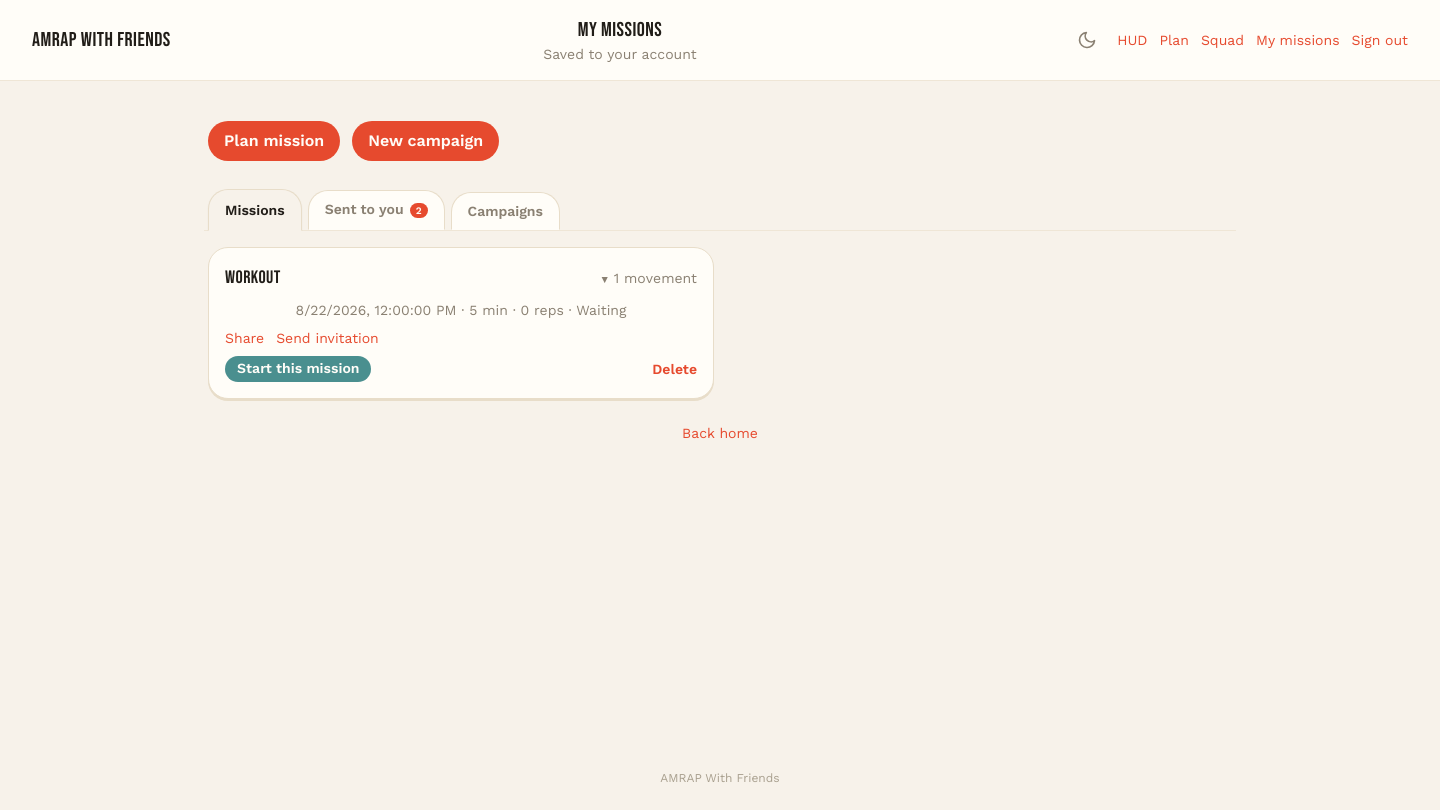
Test case: MyMissionsPage tabs › defaults to Missions and switches section panels
Check: the element named "My missions sections" is shown, box [204, 189, 1236, 231]
Check: the link "Start this mission" is shown, box [225, 356, 371, 382]
What coordinates should you click on to do the following:
click the tab "Campaigns"
I would click on:
 (505, 211)
Its box is [451, 192, 560, 230].
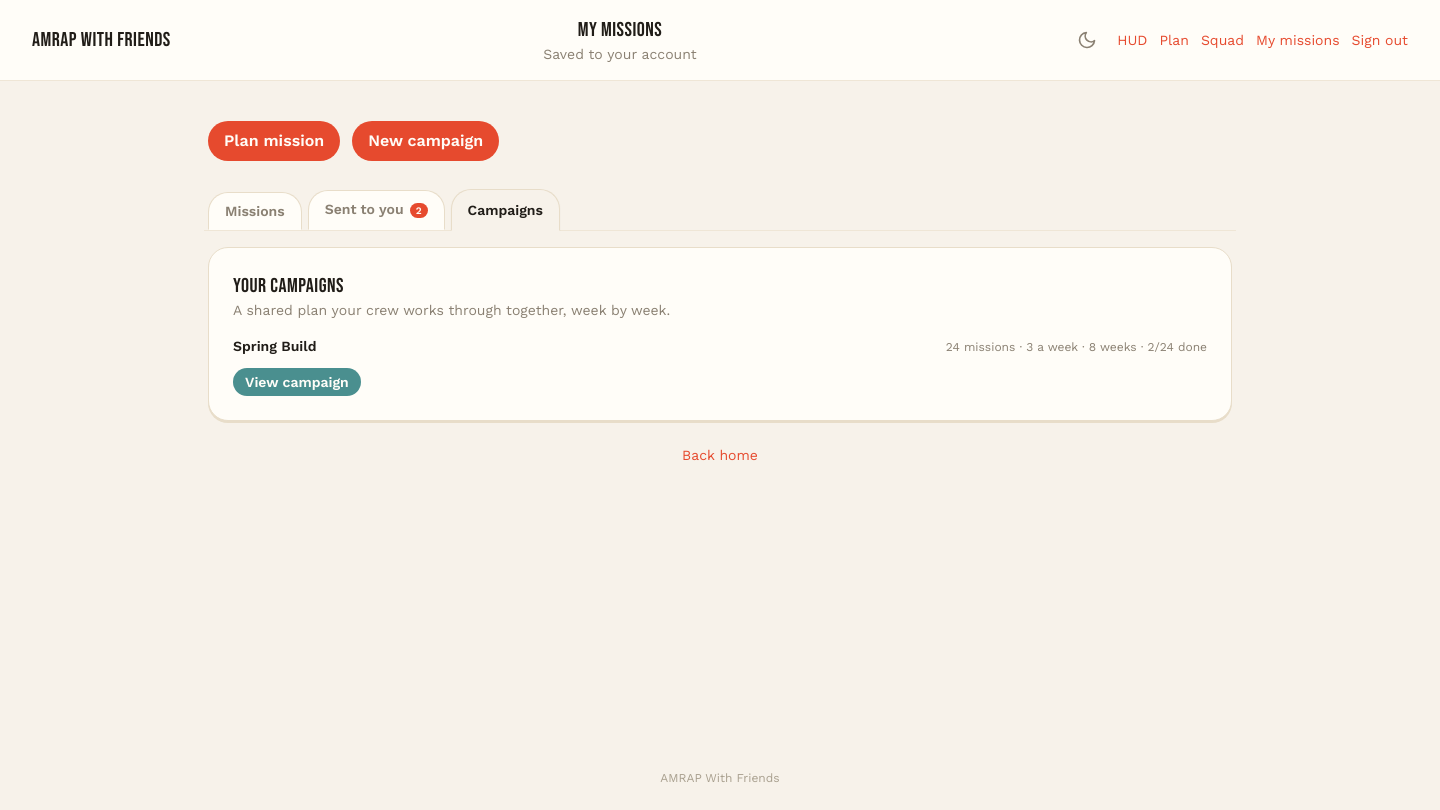
Check: the heading "Your campaigns" is shown, box [233, 274, 344, 298]
Check: the text "Spring Build" is shown, box [233, 336, 316, 356]
What coordinates should you click on to do the following:
click the tab "Sent to you2"
I would click on:
 (376, 210)
Its box is [308, 190, 445, 230].
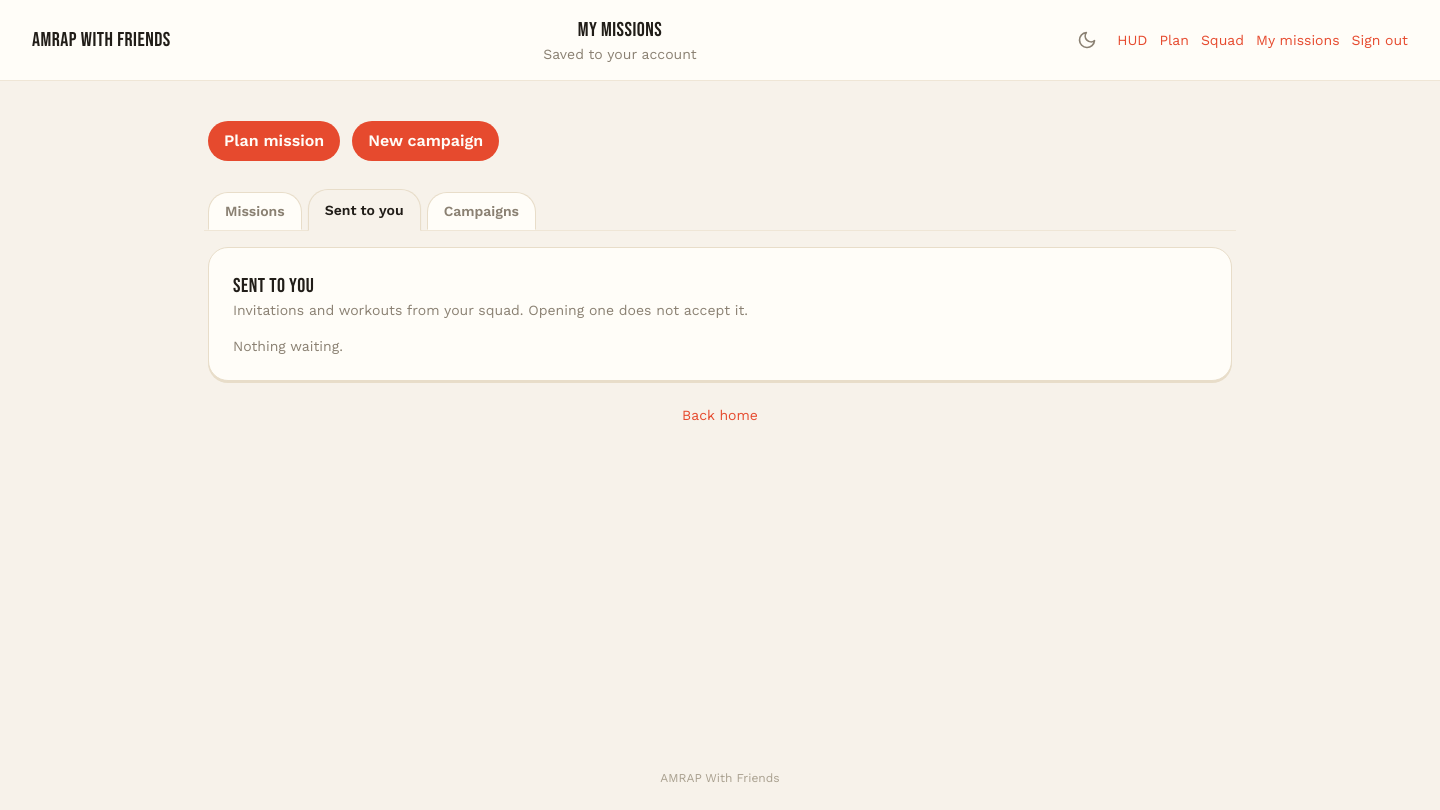
Check: the text "Nothing waiting." is shown, box [233, 338, 343, 354]
